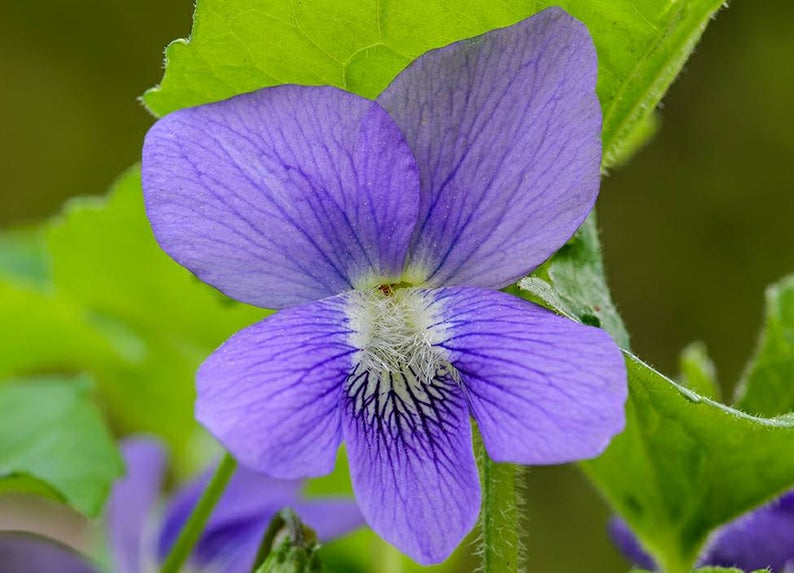violet: (137, 25, 638, 525)
